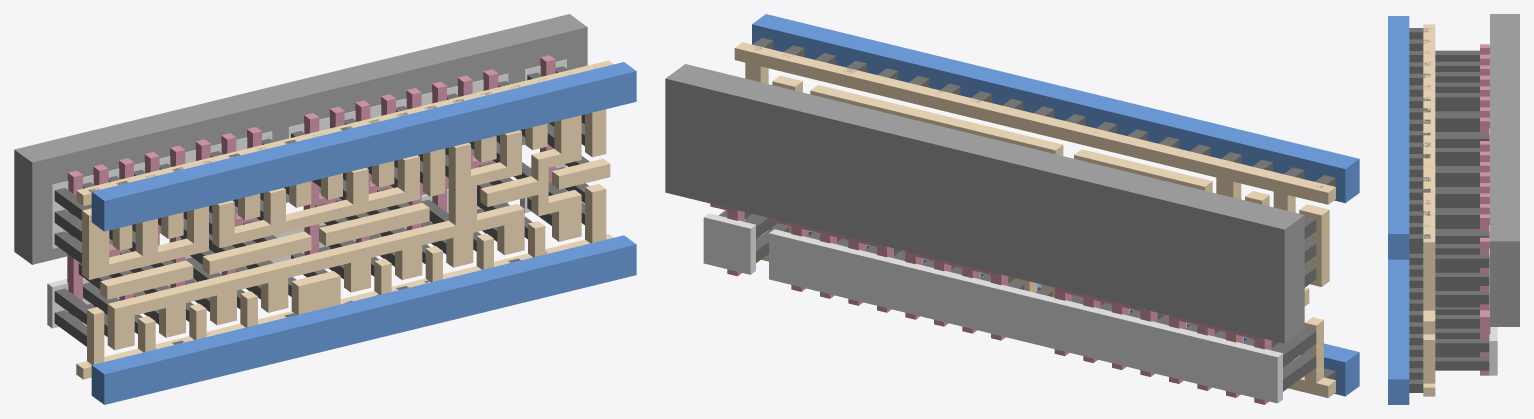
Rendered from sky130_fd_sc_hd__nor4b_4.gds.gltf.
The picture shows the model from 3 angles, left to right: view 1: azimuth 30°, elevation 25°; view 2: azimuth 150°, elevation 25°; view 3: azimuth 270°, elevation 25°; orthographic projection. The views are drawn at different scales.
Visible parts, largest first — view 1: sky130_fd_sc_hd__nor4b_4_li1, sky130_fd_sc_hd__nor4b_4_met1, sky130_fd_sc_hd__nor4b_4_nwell, sky130_fd_sc_hd__nor4b_4_licon, sky130_fd_sc_hd__nor4b_4_poly, sky130_fd_sc_hd__nor4b_4_diff, sky130_fd_sc_hd__nor4b_4_mcon; view 2: sky130_fd_sc_hd__nor4b_4_nwell, sky130_fd_sc_hd__nor4b_4_diff, sky130_fd_sc_hd__nor4b_4_li1, sky130_fd_sc_hd__nor4b_4_met1, sky130_fd_sc_hd__nor4b_4_poly, sky130_fd_sc_hd__nor4b_4_licon, sky130_fd_sc_hd__nor4b_4_mcon; view 3: sky130_fd_sc_hd__nor4b_4_licon, sky130_fd_sc_hd__nor4b_4_nwell, sky130_fd_sc_hd__nor4b_4_met1, sky130_fd_sc_hd__nor4b_4_mcon, sky130_fd_sc_hd__nor4b_4_li1, sky130_fd_sc_hd__nor4b_4_poly, sky130_fd_sc_hd__nor4b_4_diff.
Part boxes in pixels (left/top/right/bottom): sky130_fd_sc_hd__nor4b_4_li1: left=76, top=60, right=613, bottom=379; sky130_fd_sc_hd__nor4b_4_met1: left=91, top=62, right=636, bottom=404; sky130_fd_sc_hd__nor4b_4_nwell: left=14, top=14, right=587, bottom=264; sky130_fd_sc_hd__nor4b_4_licon: left=54, top=66, right=589, bottom=346; sky130_fd_sc_hd__nor4b_4_poly: left=67, top=55, right=555, bottom=322; sky130_fd_sc_hd__nor4b_4_diff: left=47, top=59, right=566, bottom=328; sky130_fd_sc_hd__nor4b_4_mcon: left=88, top=78, right=576, bottom=365; sky130_fd_sc_hd__nor4b_4_nwell: left=665, top=64, right=1304, bottom=343; sky130_fd_sc_hd__nor4b_4_diff: left=703, top=213, right=1282, bottom=403; sky130_fd_sc_hd__nor4b_4_li1: left=734, top=42, right=1335, bottom=397; sky130_fd_sc_hd__nor4b_4_met1: left=752, top=14, right=1359, bottom=396; sky130_fd_sc_hd__nor4b_4_poly: left=710, top=203, right=1271, bottom=404; sky130_fd_sc_hd__nor4b_4_licon: left=718, top=210, right=1316, bottom=391; sky130_fd_sc_hd__nor4b_4_mcon: left=753, top=38, right=1335, bottom=379; sky130_fd_sc_hd__nor4b_4_licon: left=1435, top=50, right=1489, bottom=370; sky130_fd_sc_hd__nor4b_4_nwell: left=1490, top=14, right=1519, bottom=326; sky130_fd_sc_hd__nor4b_4_met1: left=1388, top=16, right=1409, bottom=404; sky130_fd_sc_hd__nor4b_4_mcon: left=1409, top=28, right=1430, bottom=392; sky130_fd_sc_hd__nor4b_4_li1: left=1423, top=24, right=1435, bottom=396; sky130_fd_sc_hd__nor4b_4_poly: left=1480, top=44, right=1490, bottom=375; sky130_fd_sc_hd__nor4b_4_diff: left=1489, top=128, right=1497, bottom=375.
Bounding box in the file's own units: 9.12 × 3.2 × 2.24.
